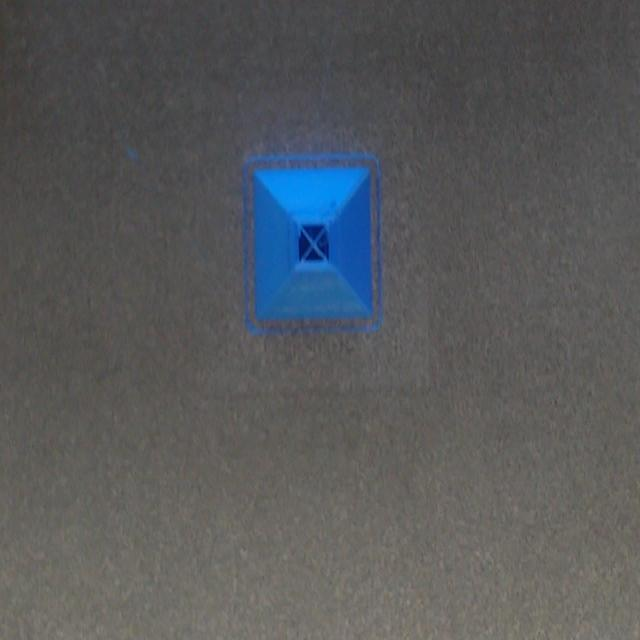mistake: (299, 205, 337, 261)
